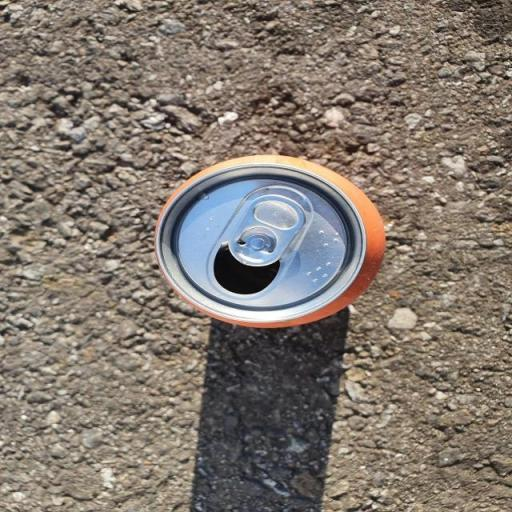metal: (89, 135, 484, 399)
